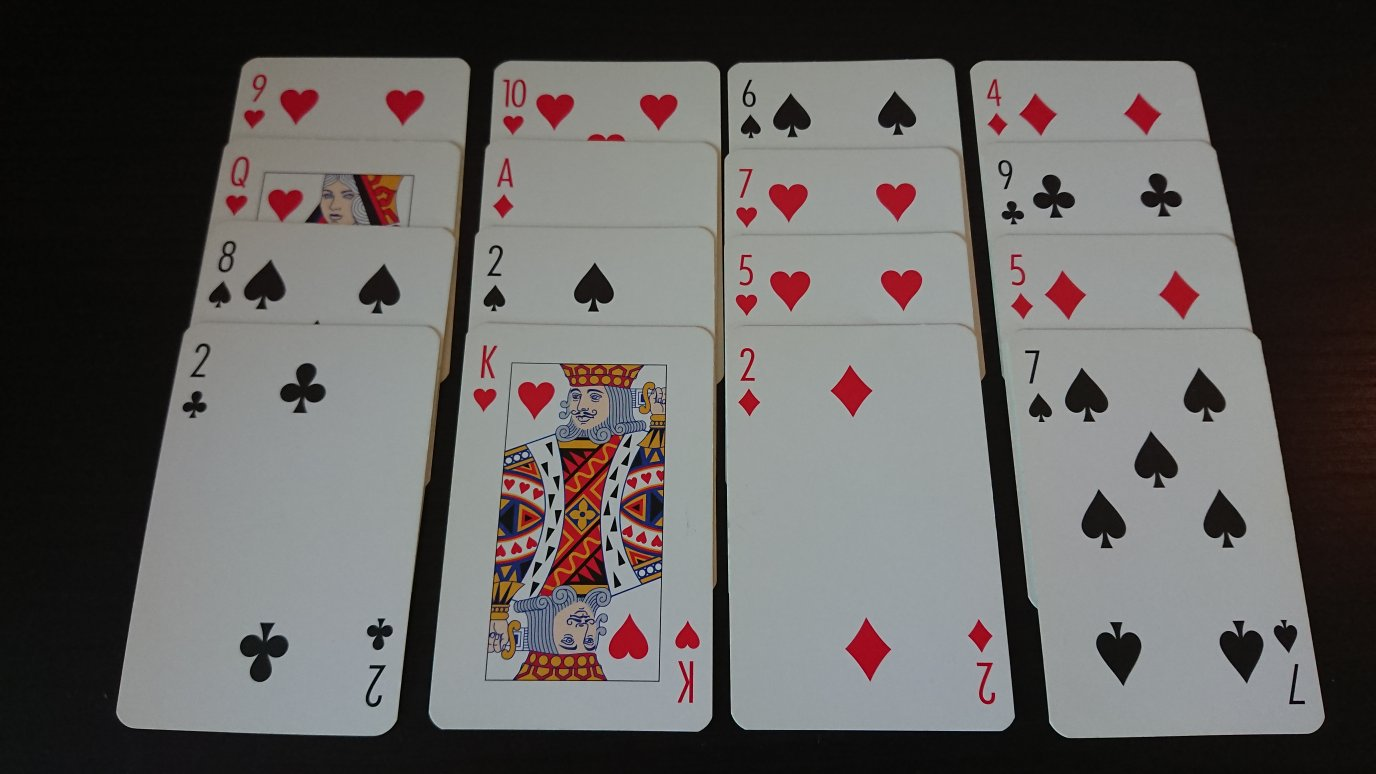10H: (498, 72, 531, 138)
2C: (174, 339, 222, 429)
2D: (731, 341, 767, 424)
2S: (477, 238, 511, 318)
4D: (981, 73, 1013, 142)
5D: (1000, 245, 1037, 326)
5H: (728, 248, 765, 319)
6S: (735, 72, 766, 144)
7H: (728, 161, 764, 233)
7S: (1014, 342, 1063, 430)
8S: (202, 235, 242, 317)
9C: (989, 153, 1030, 230)
9H: (239, 70, 275, 132)
AD: (488, 151, 521, 221)
KH: (470, 338, 504, 419)
QH: (219, 149, 258, 220)
